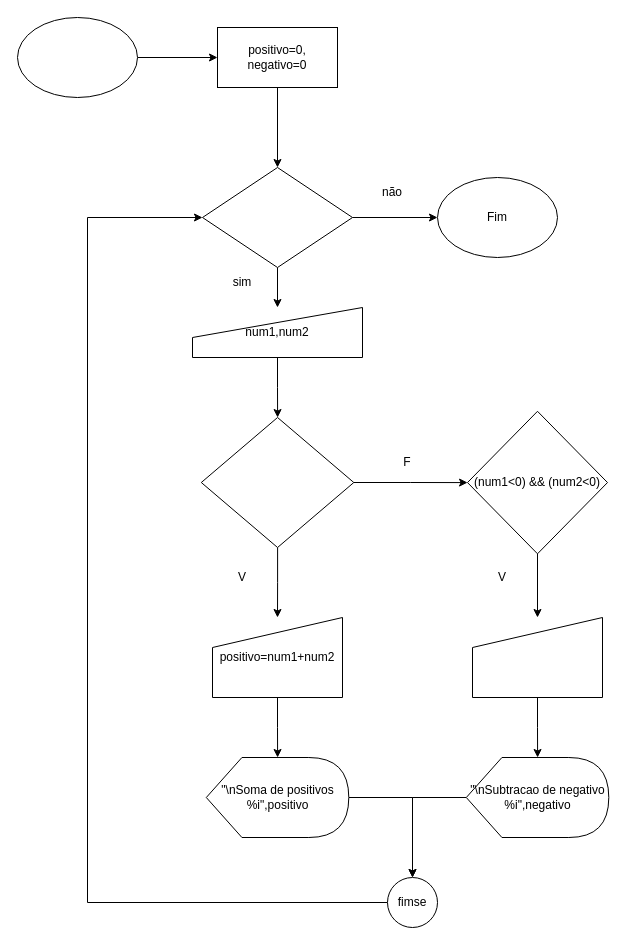
This 627x945 diagram has some shape labels left out. The centre of each missing label's shape, as x and y in pixels:
"(num1>=0) && (num2>=0)" goes at [277,482].
"for(contador=1; contador<=2; contador++)" goes at [277,217].
"Início" goes at [77,57].
"negativo=num1-num2" goes at [537,657].
